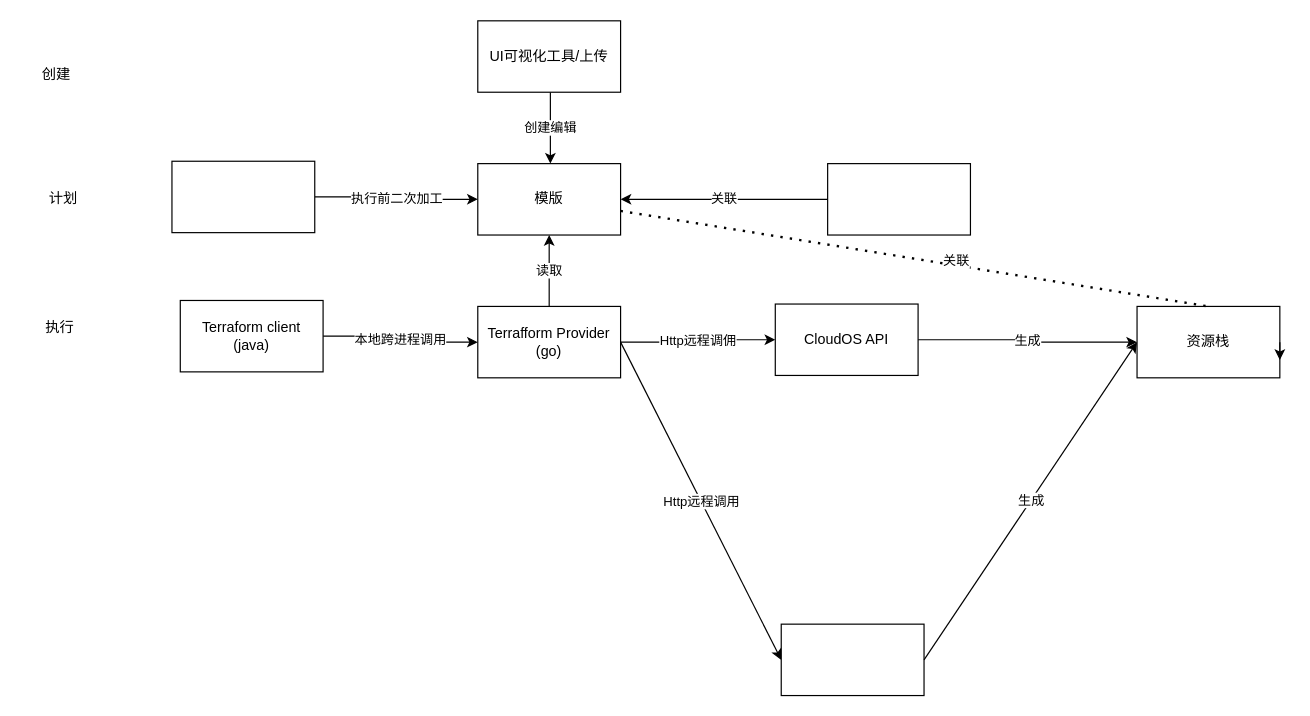
This 1310x716 diagram has some shape labels left out. The centre of each missing label's shape, as x and y in pixels:
"其他三方API" belongs at [852,659].
"执行计划" belongs at [898,198].
"配置参数" belongs at [243,196].
